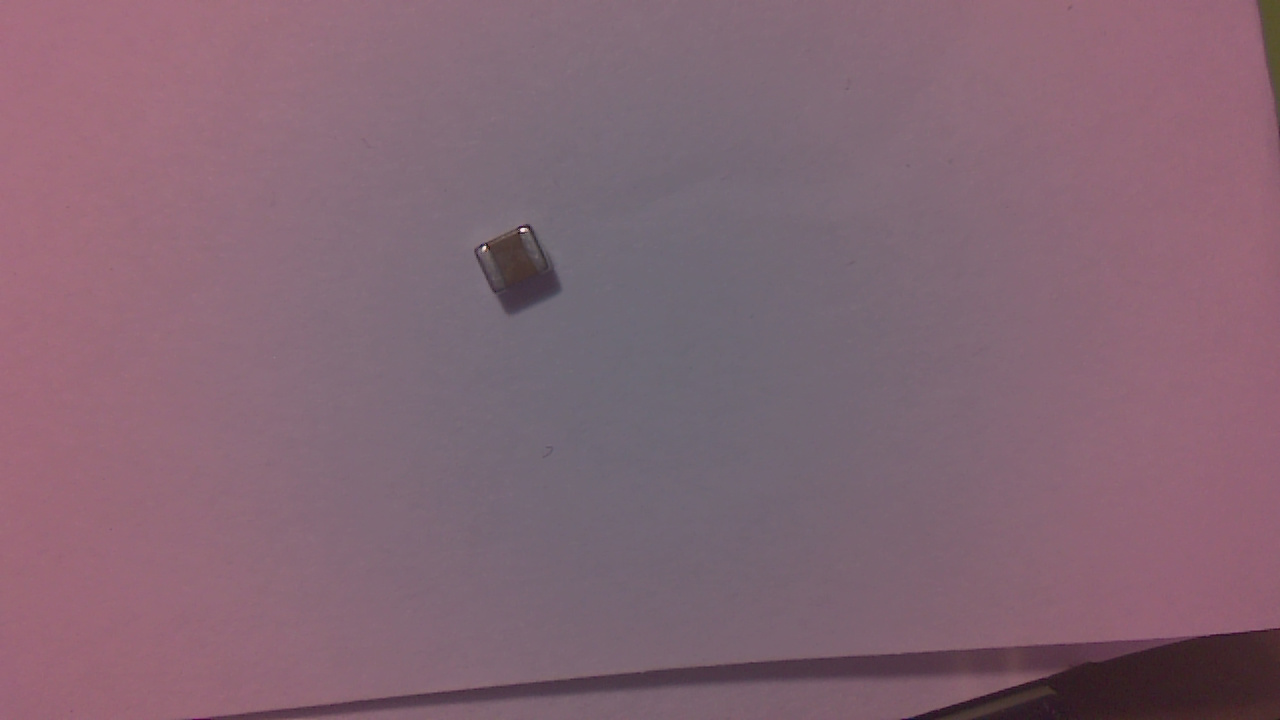Condensator: (480, 228, 552, 302)
